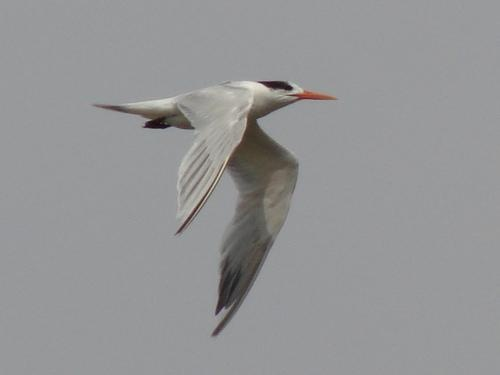bird: (92, 78, 343, 339)
